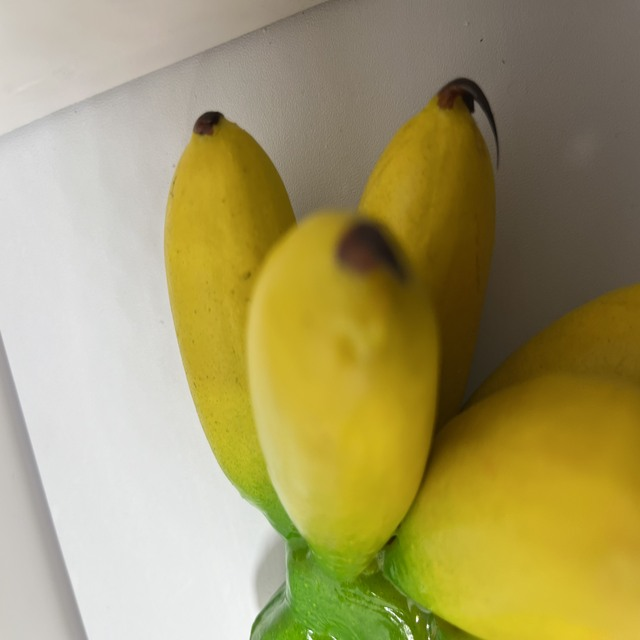Chuoi: (158, 78, 640, 640)
